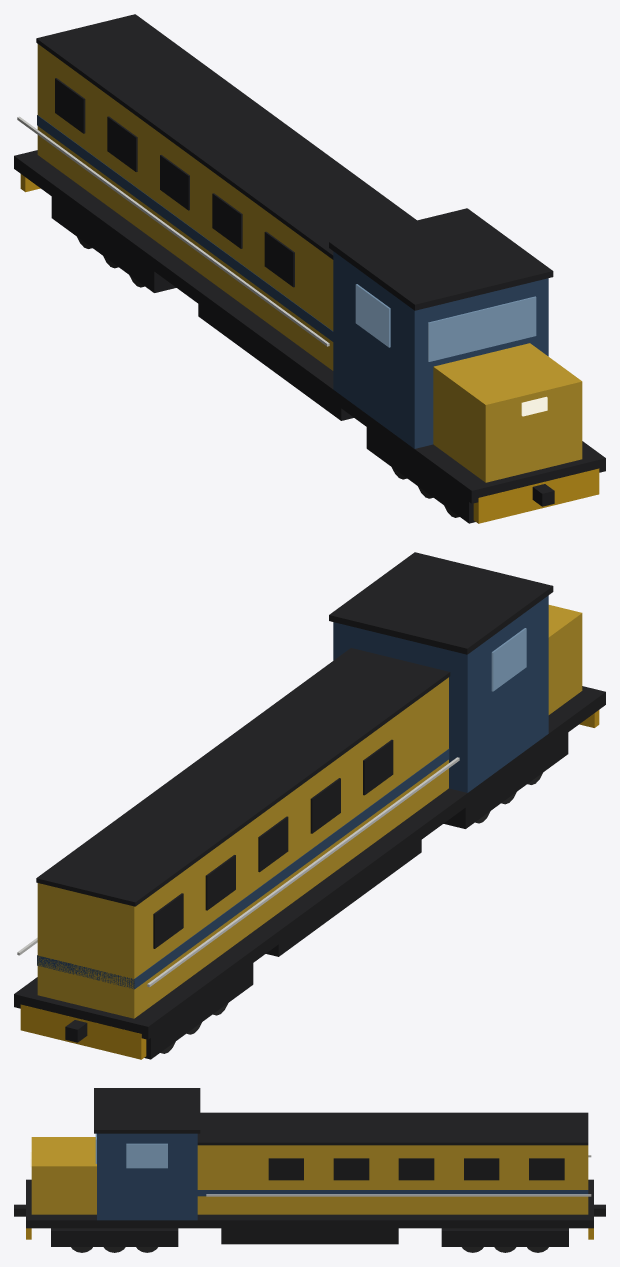
File: locomotive.glb
3 views of the same model, one above another, from view 1: azimuth 30°, elevation 25°; view 2: azimuth 150°, elevation 25°; view 3: azimuth 270°, elevation 25° (orthographic). The views are drawn at different scales.
Parts seen in each view (by area): view 1: part-frame, part-hood, part-cab, part-glass, part-bogie, part-pilot, part-rail; view 2: part-frame, part-hood, part-cab, part-bogie, part-pilot, part-rail, part-glass; view 3: part-frame, part-hood, part-cab, part-bogie, part-rail, part-glass, part-wheel.
Boxes of the visible parts, bbox=[...] form: part-frame: bbox=[14, 14, 605, 506]; part-hood: bbox=[37, 44, 582, 482]; part-cab: bbox=[37, 115, 548, 448]; part-glass: bbox=[355, 284, 536, 361]; part-bogie: bbox=[51, 196, 475, 523]; part-pilot: bbox=[20, 174, 599, 523]; part-rail: bbox=[17, 116, 329, 346]; part-frame: bbox=[14, 552, 605, 1042]; part-hood: bbox=[37, 605, 582, 1018]; part-cab: bbox=[37, 595, 548, 989]; part-bogie: bbox=[144, 732, 568, 1059]; part-pilot: bbox=[20, 710, 599, 1059]; part-rail: bbox=[17, 757, 459, 987]; part-glass: bbox=[491, 628, 526, 691]; part-frame: bbox=[14, 1088, 605, 1244]; part-hood: bbox=[31, 1137, 588, 1214]; part-cab: bbox=[97, 1133, 588, 1220]; part-bogie: bbox=[51, 1228, 568, 1246]; part-rail: bbox=[206, 1155, 591, 1196]; part-glass: bbox=[95, 1133, 167, 1168]; part-wheel: bbox=[71, 1247, 548, 1252].
Bounding box in the file's own units: 33.5 × 48.9 × 200.
